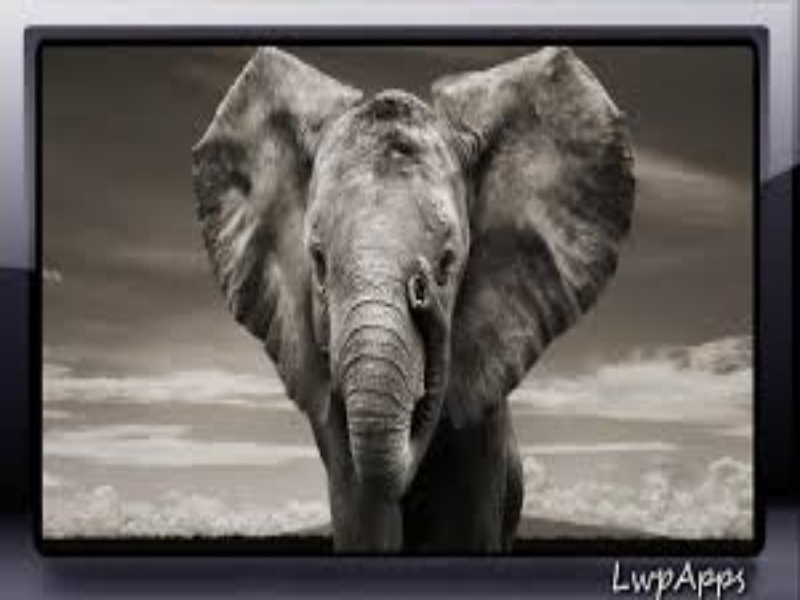elephant: (179, 45, 671, 549)
